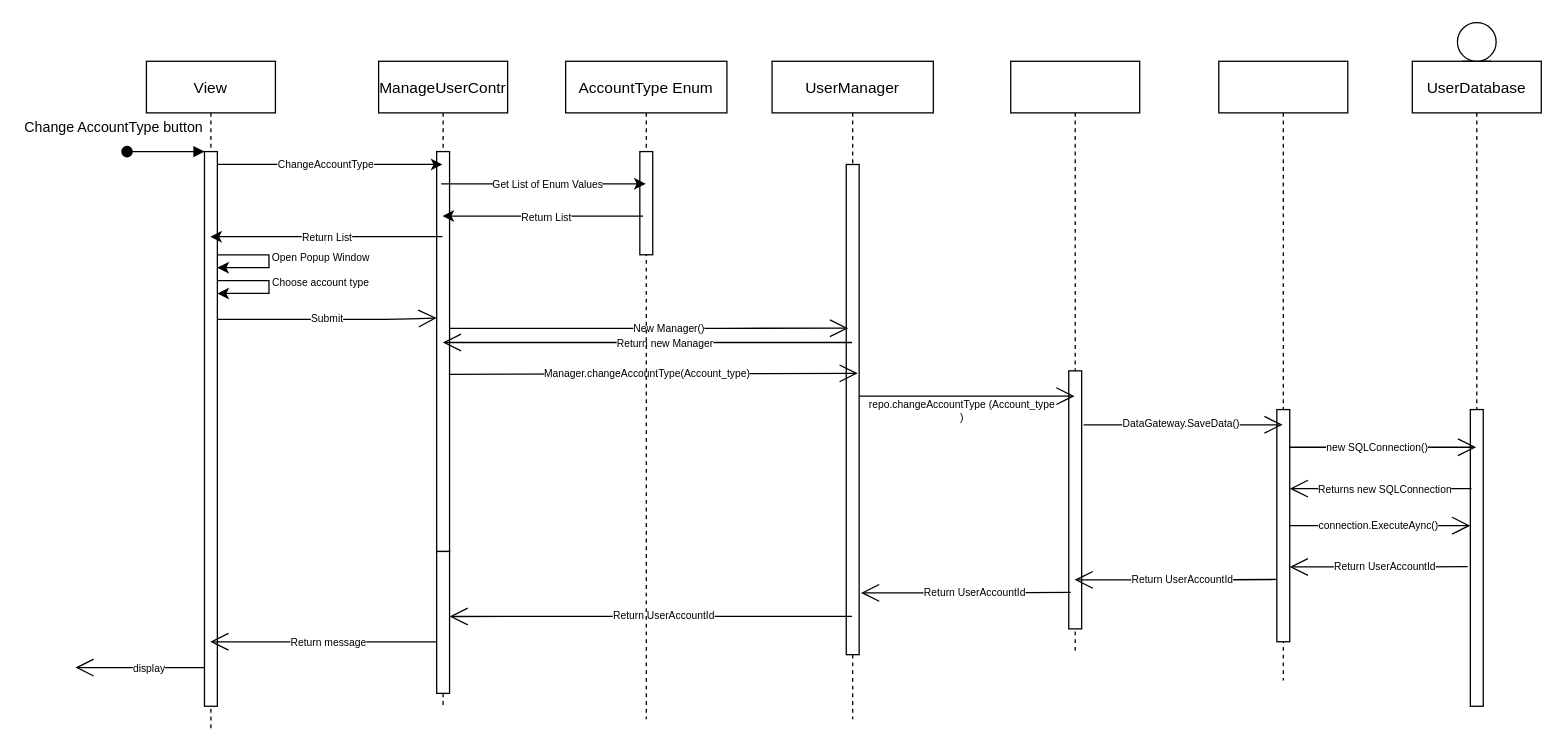
Some shapes in this 1563 by 755 pixel diagram are drawn without their labels. Each missing label, with the box of its shape:
DataGateway: (1218, 60, 1348, 680)
UserProfileRepo: (1009, 60, 1140, 655)
